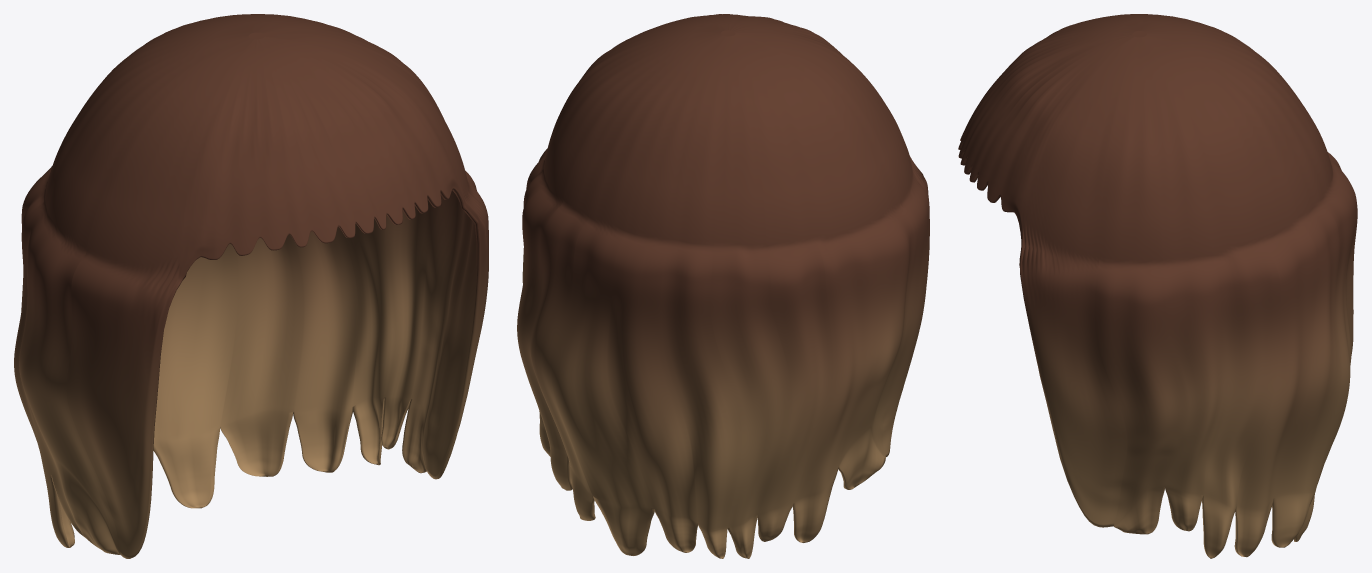
Rendered from long-beanie-ombre.glb.
3 views of the same model, side by side, from view 1: azimuth 30°, elevation 25°; view 2: azimuth 150°, elevation 25°; view 3: azimuth 270°, elevation 25° (orthographic). The views are drawn at different scales.
Visible parts, largest first — view 1: Hair / rounded long fringe; view 2: Hair / rounded long fringe; view 3: Hair / rounded long fringe.
Part boxes in pixels (x1,y1,x2,y2): Hair / rounded long fringe: (14, 14, 488, 558); Hair / rounded long fringe: (517, 14, 929, 558); Hair / rounded long fringe: (958, 14, 1357, 558).
Bounding box in the file's own units: 0.8534 × 1.06 × 0.7734.
